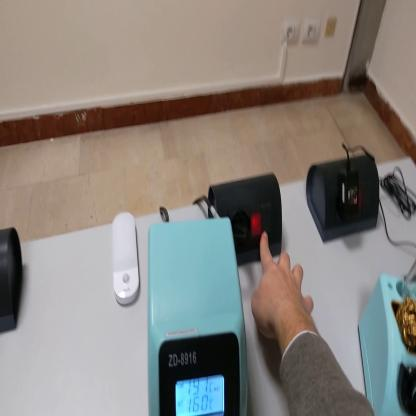hand: (252, 230, 312, 340)
socket: (307, 152, 387, 244), (210, 178, 285, 272)
welder base: (358, 272, 415, 414)
welder station: (149, 217, 248, 414)
